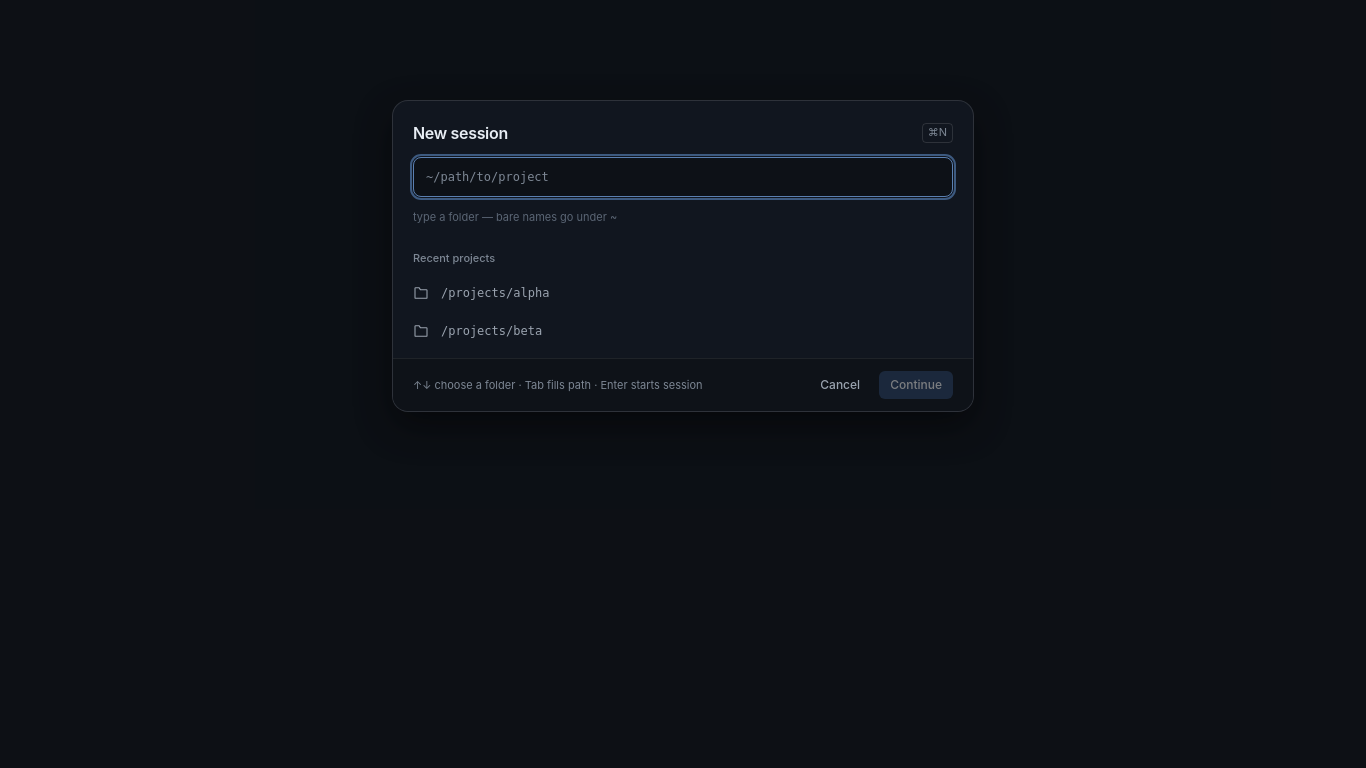
it: new session folder selection › preserves folder autocomplete and leaves Shift-Tab available for navigation
Type "/projects/ch" into the dropdown with placeholder "~/path/to/project".
click(683, 177); type("/projects/ch")  # box x1=413 y1=157 x2=953 y2=197
Wait 80 ms
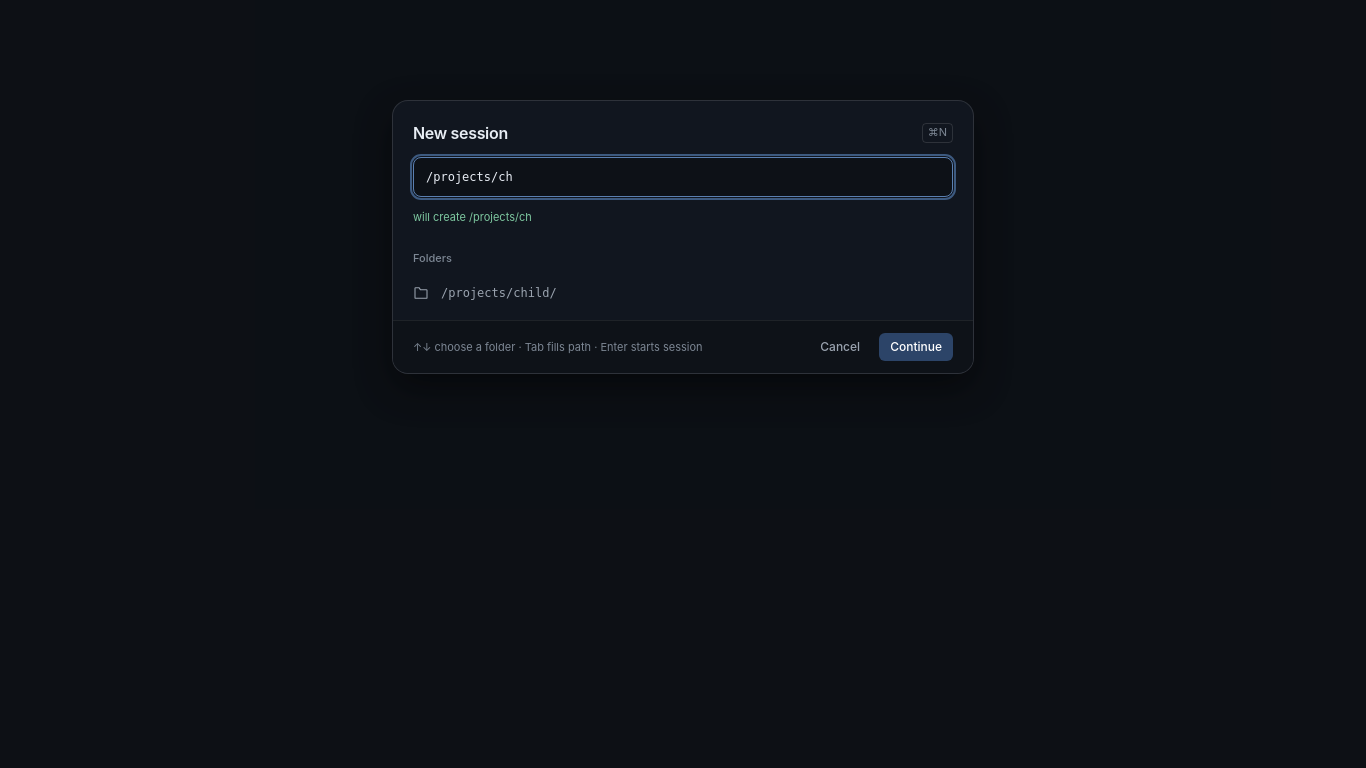
Press ArrowDown in the dropdown named "Project folder", box x1=413 y1=157 x2=953 y2=197
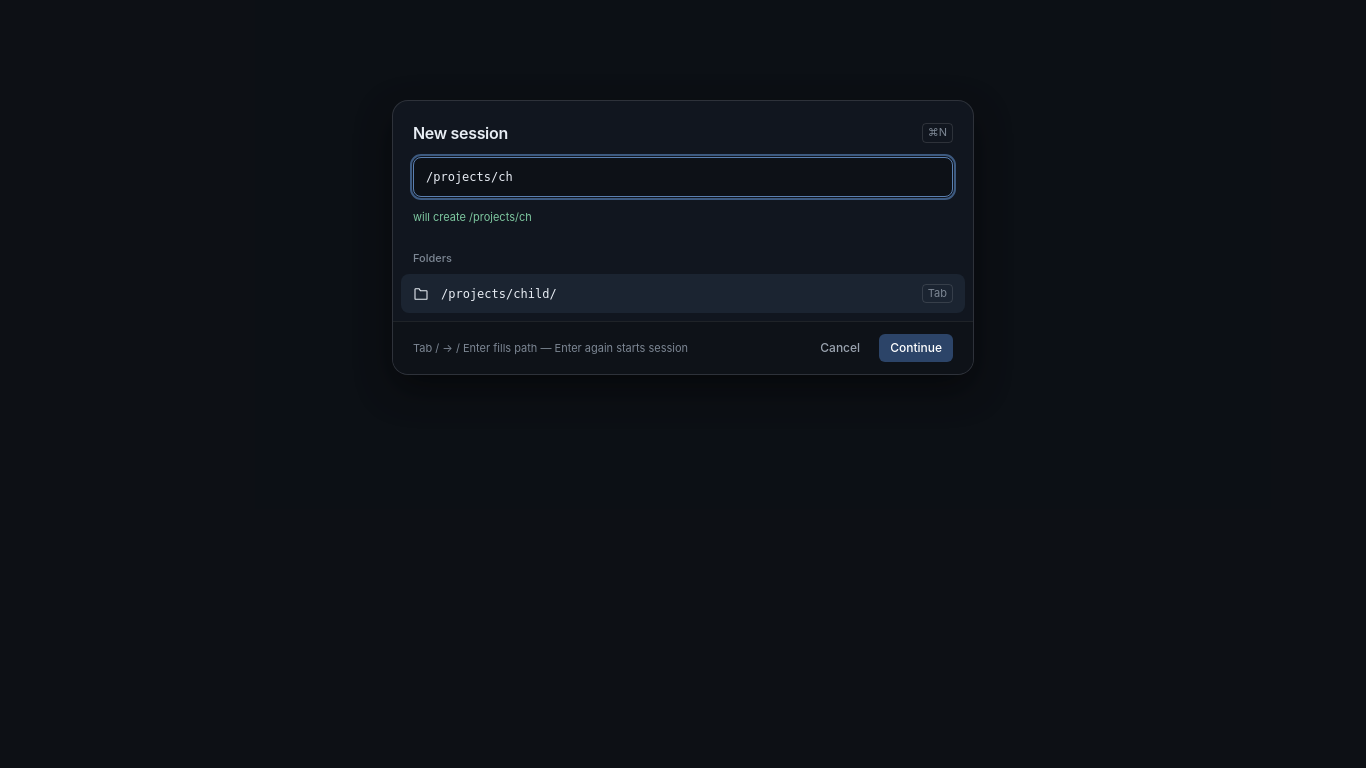
Press Tab in the dropdown named "Project folder", box x1=413 y1=157 x2=953 y2=197
Press Tab in the dropdown named "Project folder", box x1=413 y1=157 x2=953 y2=197
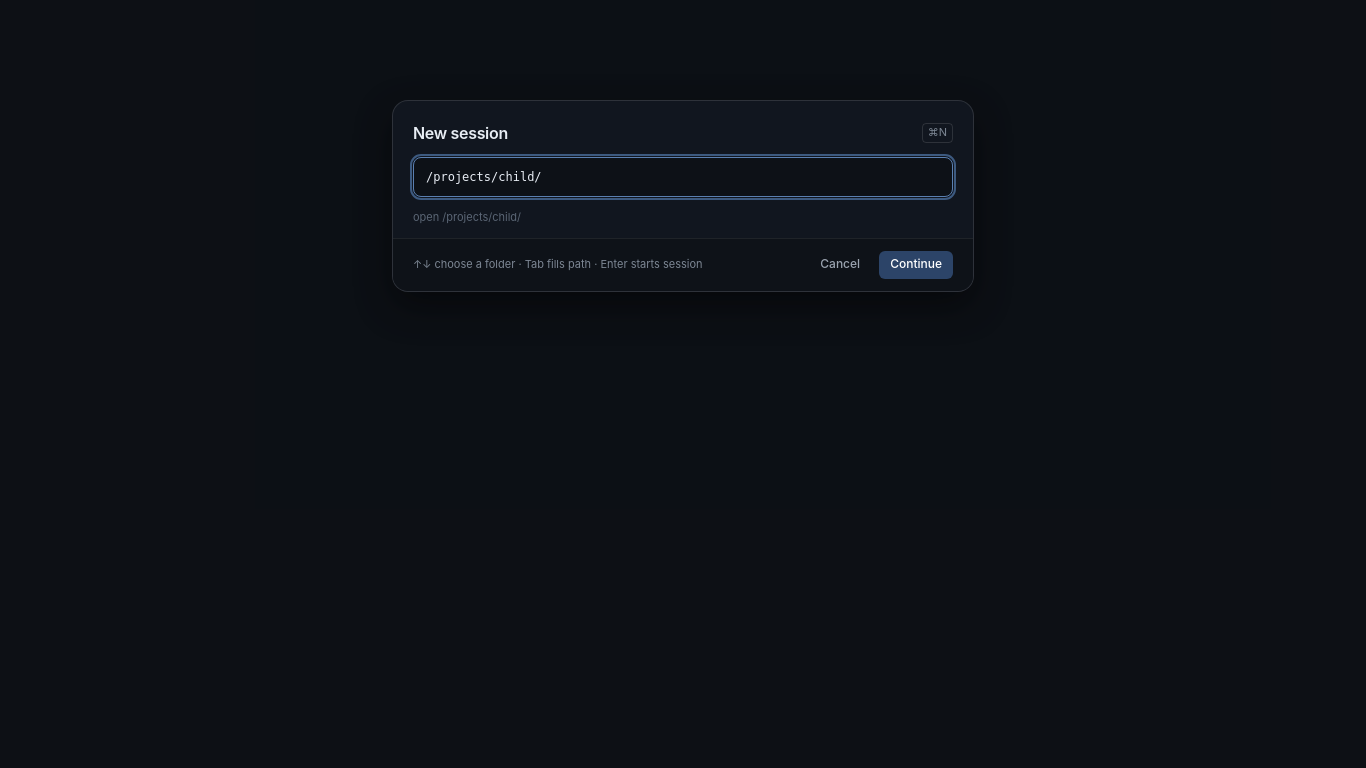
expect the dropdown named "Project folder" holds "/projects/child/": met, box x1=413 y1=157 x2=953 y2=197
